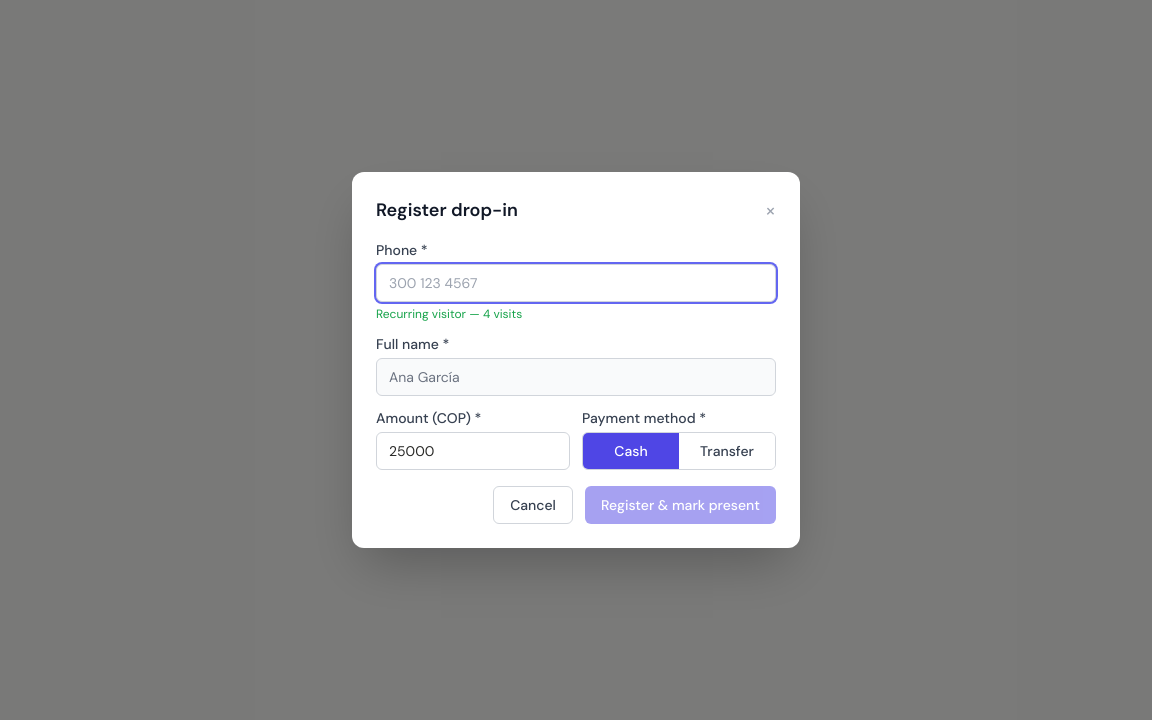
DropInModal › submit button enabled after typing phone with found lookup and amount > 0
Type "3001234567" into the field with placeholder "300 123 4567" at (576, 283), box [376,264,776,302]
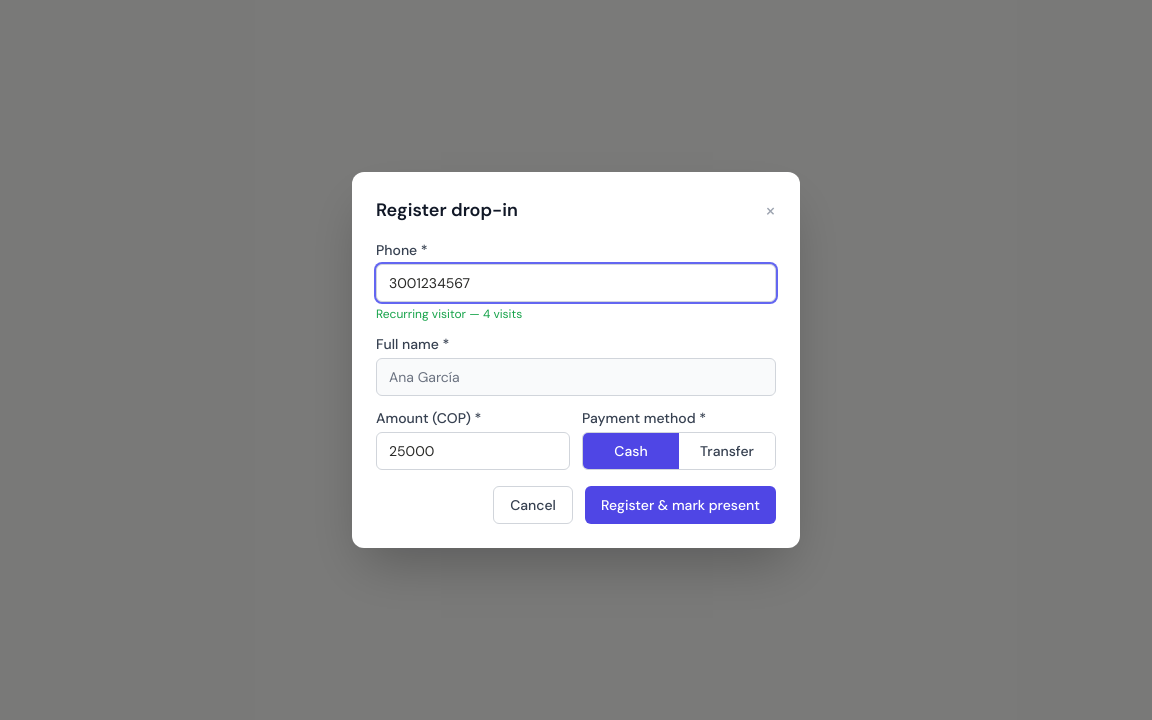
Result: the button "Register & mark present" is enabled at [585,486,776,524]
